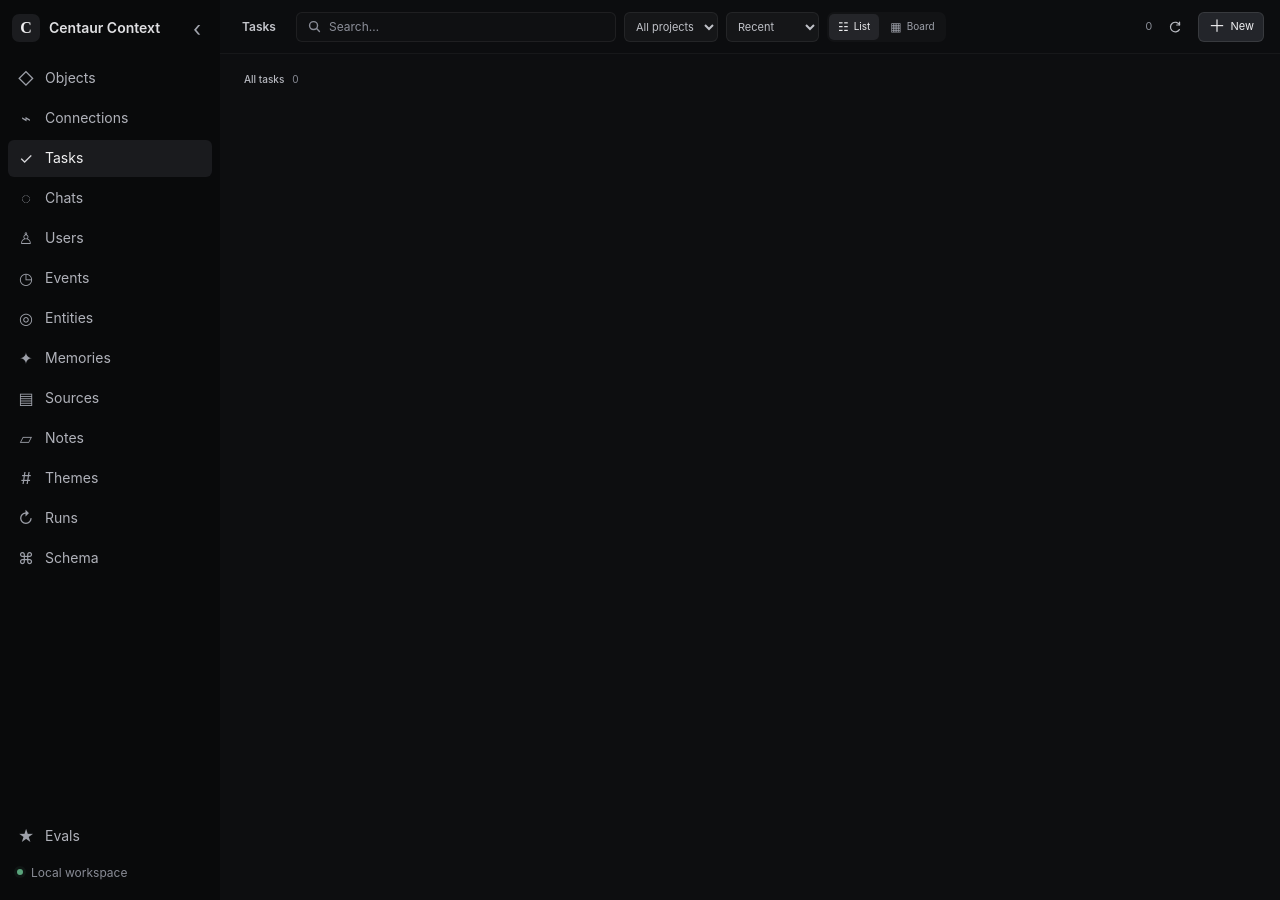
Test: Tasks List due-date mode › returns to the unchanged Board while keeping due date as a client-only list mode
Select "Due date" in the dropdown named "Sort Tasks" at x=772, y=26, box [726,12,819,42]
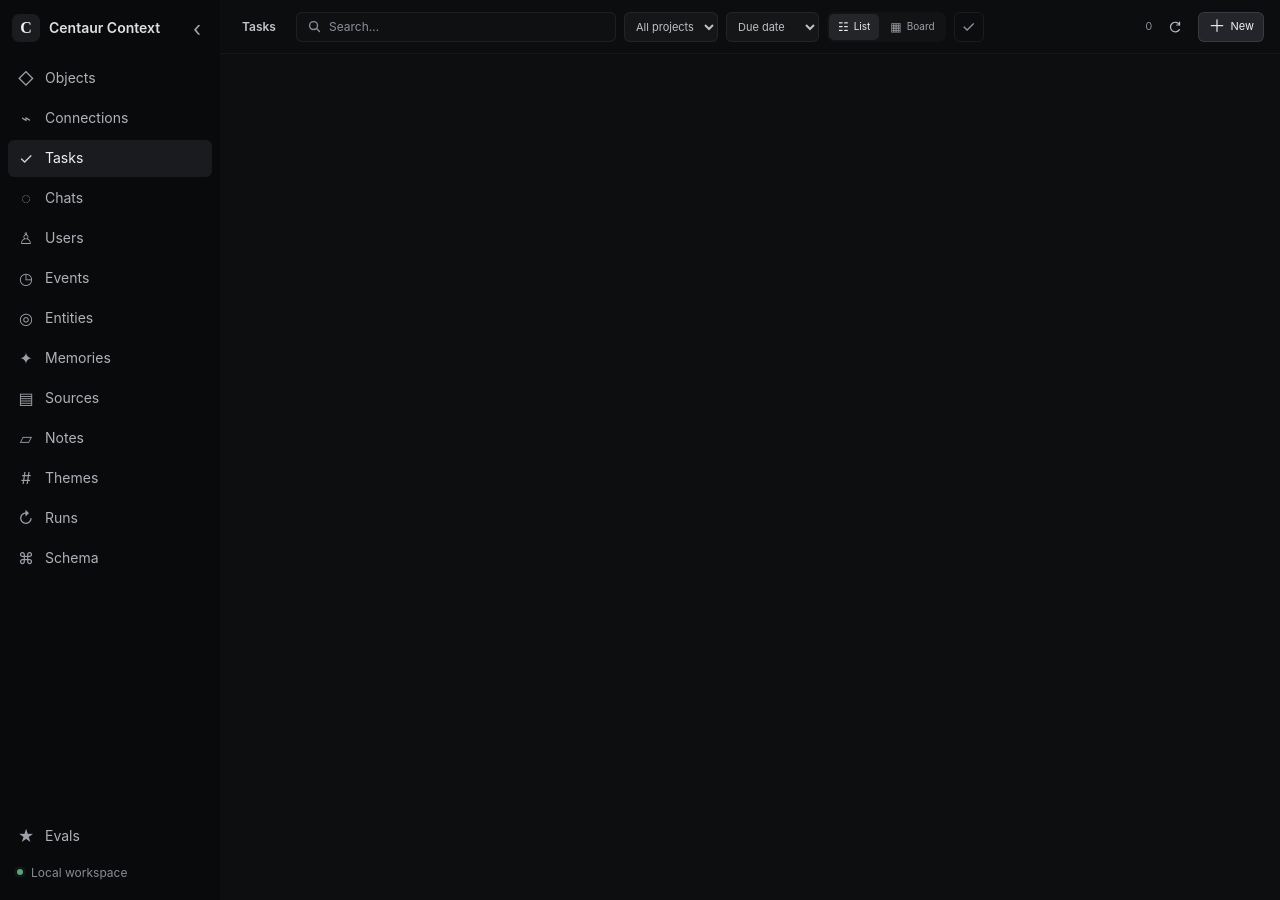
Click the button "▦ Board" at x=913, y=26, box [881,14,944,40]
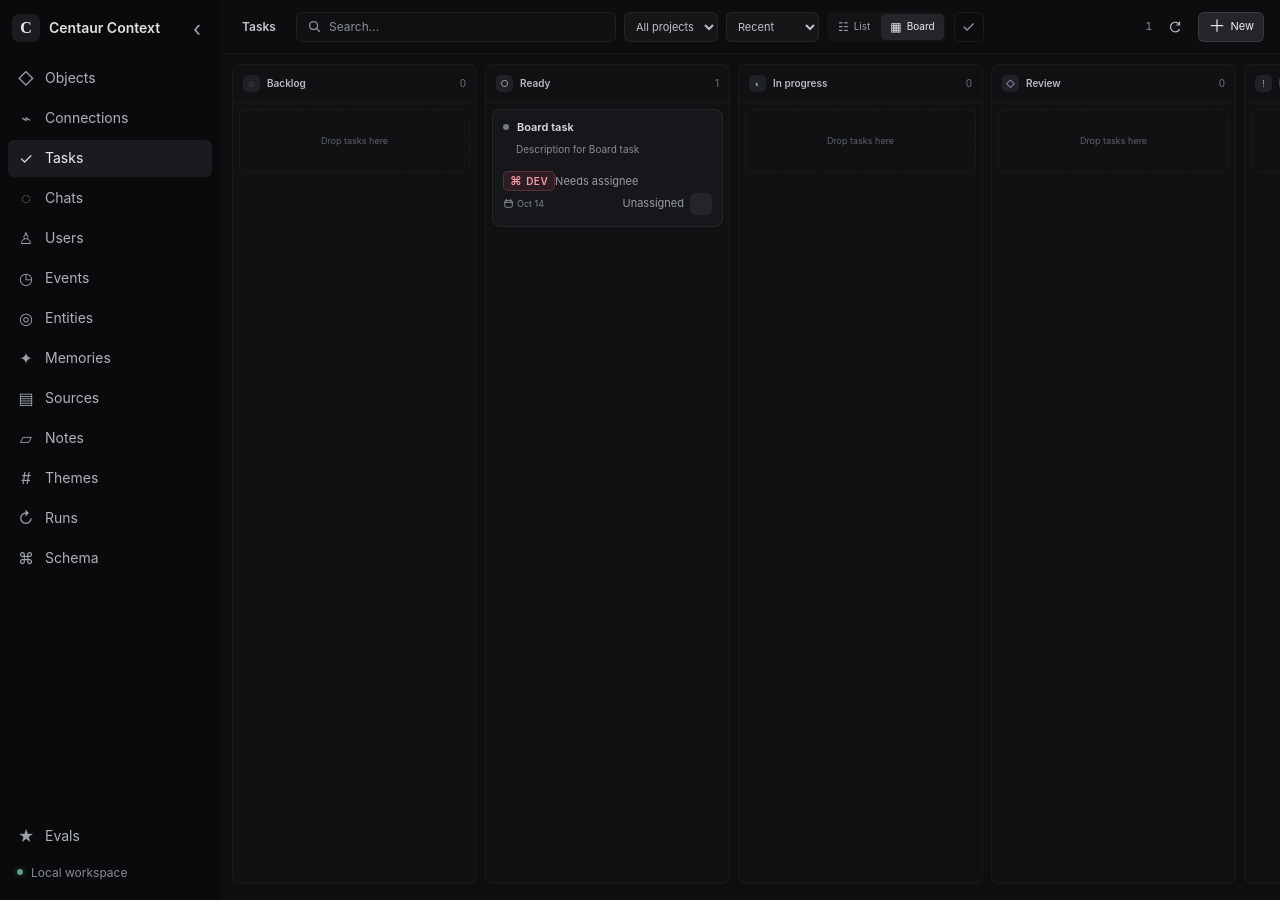
Result: the element named "Task board" is shown
Result: the button named "Open Board task" is shown at [493,110,722,226]
